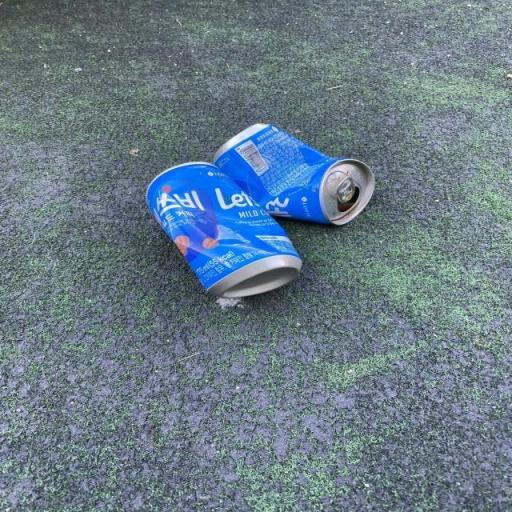metal: (132, 142, 298, 328), (200, 98, 396, 243)
